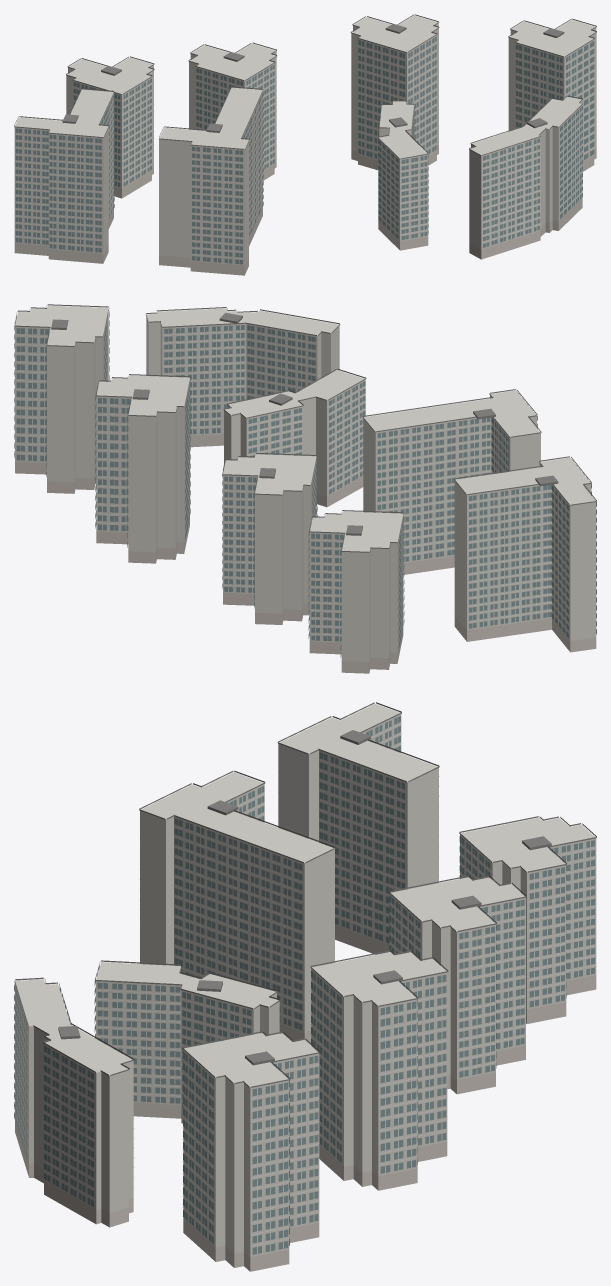
File: representative-a13778202.glb
3 views of the same model, one above another, from view 1: azimuth 30°, elevation 25°; view 2: azimuth 150°, elevation 25°; view 3: azimuth 270°, elevation 25° (orthographic). The views are drawn at different scales.
Visible parts, largest first — view 1: A13778202_wall001, A13778202_glass001, A13778202_trim001, A13778202_base001, A13778202_roof001; view 2: A13778202_wall001, A13778202_glass001, A13778202_trim001, A13778202_base001, A13778202_roof001; view 3: A13778202_wall001, A13778202_glass001, A13778202_trim001, A13778202_base001, A13778202_roof001.
Part boxes in pixels (x1=…): A13778202_wall001: x1=14, y1=15, x2=596, y2=265; A13778202_glass001: x1=15, y1=36, x2=594, y2=264; A13778202_trim001: x1=14, y1=38, x2=594, y2=263; A13778202_base001: x1=14, y1=144, x2=596, y2=275; A13778202_roof001: x1=14, y1=14, x2=596, y2=159; A13778202_wall001: x1=15, y1=305, x2=596, y2=662; A13778202_glass001: x1=14, y1=312, x2=596, y2=657; A13778202_trim001: x1=15, y1=311, x2=596, y2=641; A13778202_base001: x1=15, y1=434, x2=596, y2=673; A13778202_roof001: x1=14, y1=304, x2=596, y2=552; A13778202_wall001: x1=15, y1=703, x2=596, y2=1257; A13778202_glass001: x1=14, y1=716, x2=594, y2=1254; A13778202_trim001: x1=14, y1=717, x2=596, y2=1253; A13778202_base001: x1=15, y1=925, x2=596, y2=1271; A13778202_roof001: x1=14, y1=702, x2=596, y2=1087.
Size of the model in its own units: 228 by 51.7 by 146.
